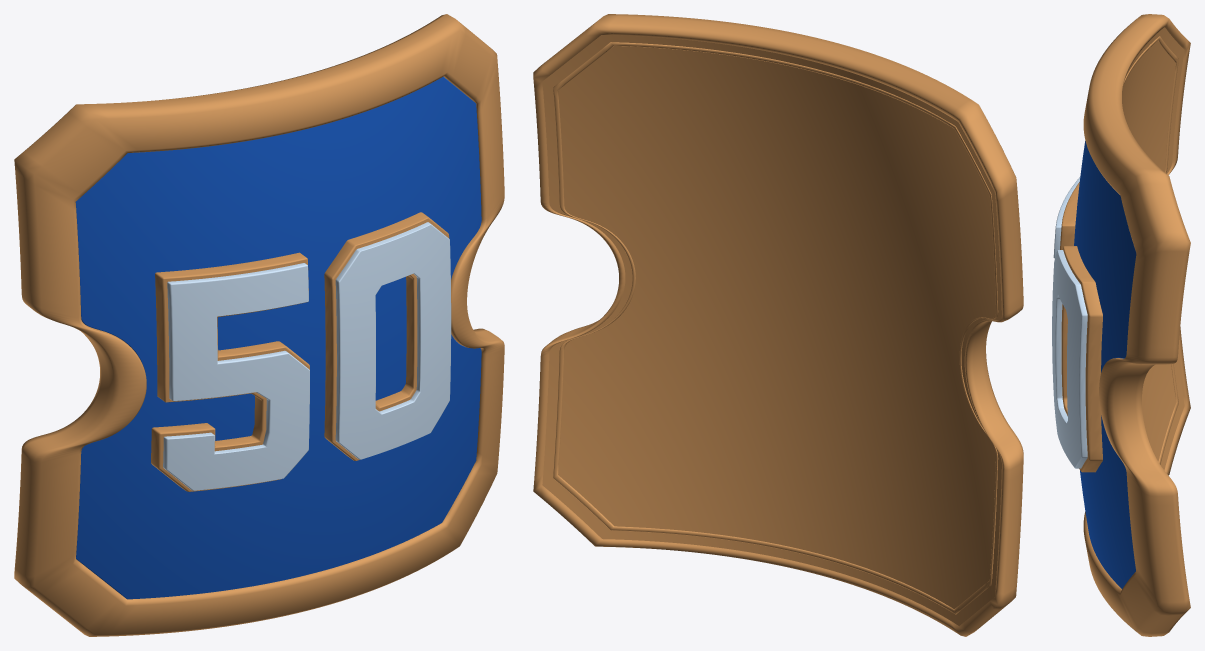
File: experience-50.glb
The picture shows the model from 3 angles, left to right: view 1: azimuth 30°, elevation 25°; view 2: azimuth 150°, elevation 25°; view 3: azimuth 270°, elevation 25°; orthographic projection. The views are drawn at different scales.
Parts seen in each view (by area): view 1: acrylic_ticket_inset_conforming_002, metal_ticket_perimeter_002, ivory_number_50_0_0_conforming, ivory_number_50_1_0_conforming, metal_number_50_0_0_conforming, metal_number_50_1_0_conforming; view 2: satin_ticket_reverse_conforming_002, metal_ticket_perimeter_002, satin_rear_border_002; view 3: metal_ticket_perimeter_002, acrylic_ticket_inset_conforming_002, satin_ticket_reverse_conforming_002, ivory_number_50_1_0_conforming, metal_number_50_1_0_conforming, satin_rear_border_002, metal_number_50_0_0_conforming, ivory_number_50_0_0_conforming.
Boxes of the visible parts, x1,y1,x2,y2 form: acrylic_ticket_inset_conforming_002: (75, 76, 481, 599); metal_ticket_perimeter_002: (14, 14, 504, 636); ivory_number_50_0_0_conforming: (163, 263, 309, 490); ivory_number_50_1_0_conforming: (335, 222, 451, 459); metal_number_50_0_0_conforming: (151, 252, 309, 491); metal_number_50_1_0_conforming: (324, 212, 449, 460); satin_ticket_reverse_conforming_002: (542, 35, 1001, 625); metal_ticket_perimeter_002: (533, 14, 1023, 636); satin_rear_border_002: (553, 42, 998, 614); metal_ticket_perimeter_002: (1083, 14, 1190, 636); acrylic_ticket_inset_conforming_002: (1074, 141, 1136, 588); satin_ticket_reverse_conforming_002: (1122, 27, 1184, 470); ivory_number_50_1_0_conforming: (1052, 250, 1087, 468); metal_number_50_1_0_conforming: (1061, 246, 1102, 472); satin_rear_border_002: (1122, 36, 1178, 464); metal_number_50_0_0_conforming: (1060, 182, 1079, 249); ivory_number_50_0_0_conforming: (1052, 177, 1080, 317).
Size of the model in its own units: 1.88 by 2 by 0.5434.
